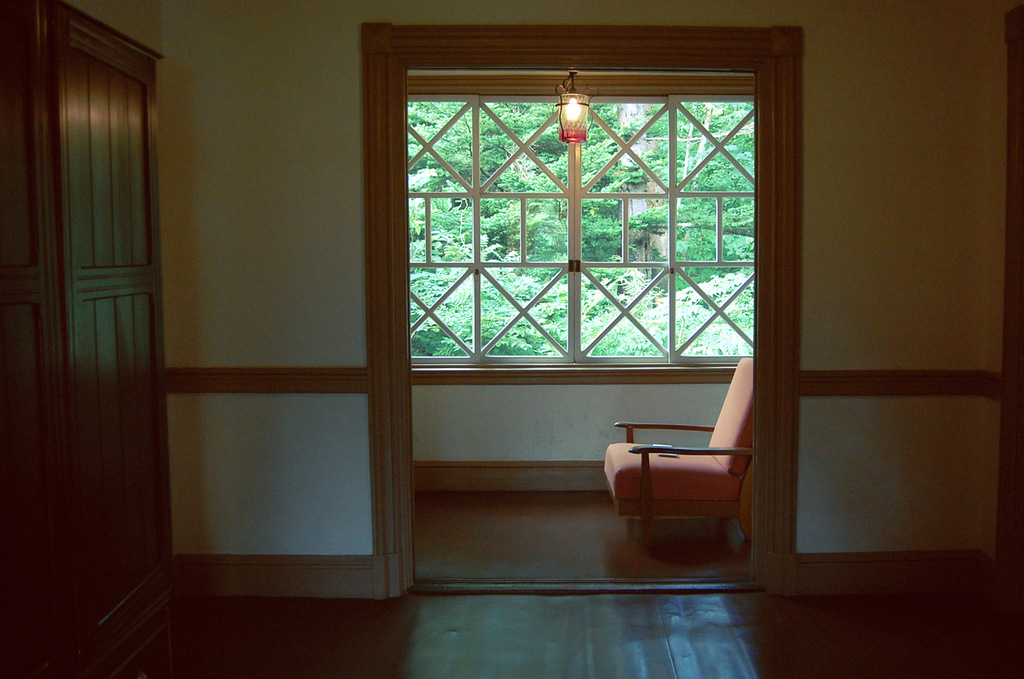Chair: (607, 398, 765, 563)
